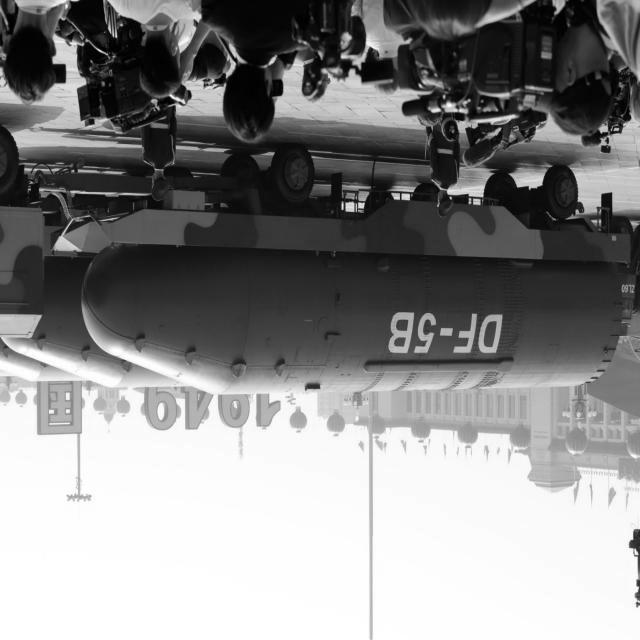Missile: (78, 249, 635, 403)
